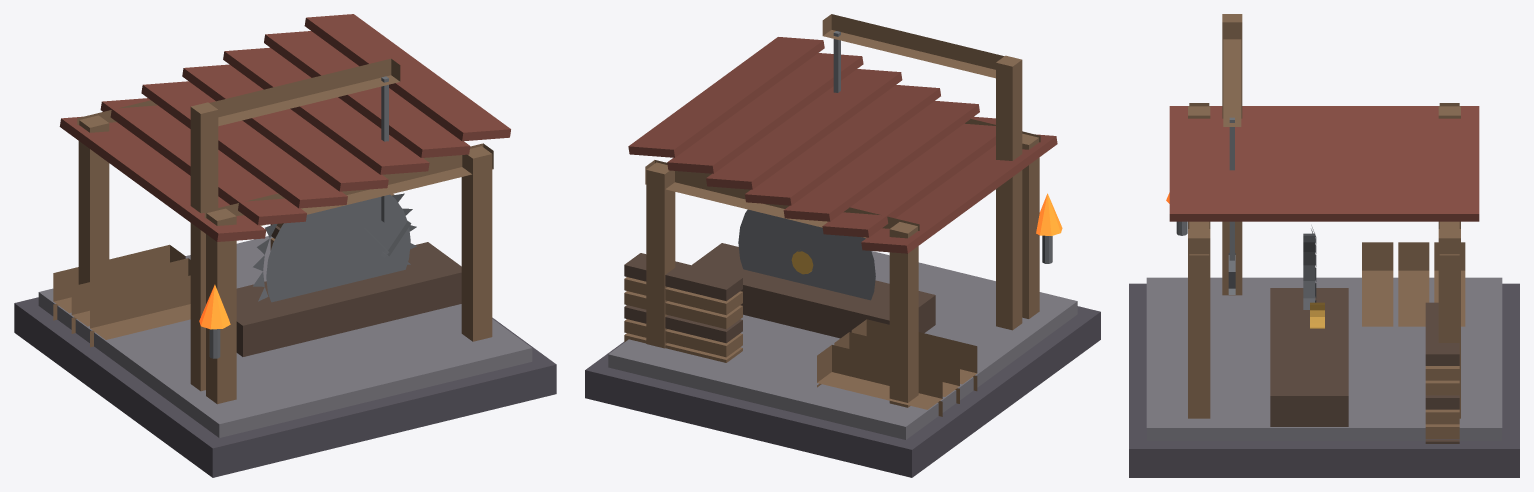
Rendered from sawmill.glb.
3 views of the same model, side by side, from view 1: azimuth 30°, elevation 25°; view 2: azimuth 150°, elevation 25°; view 3: azimuth 270°, elevation 25° (orthographic). The views are drawn at different scales.
Parts seen in each view (by area): view 1: Open Sawmill; view 2: Open Sawmill; view 3: Open Sawmill.
Part boxes in pixels (box(x1,y1,x2,y2)): Open Sawmill: box(14, 14, 556, 477); Open Sawmill: box(585, 14, 1100, 477); Open Sawmill: box(1129, 14, 1519, 477).
Size of the model in its own units: 3.9 by 3.47 by 3.9.
